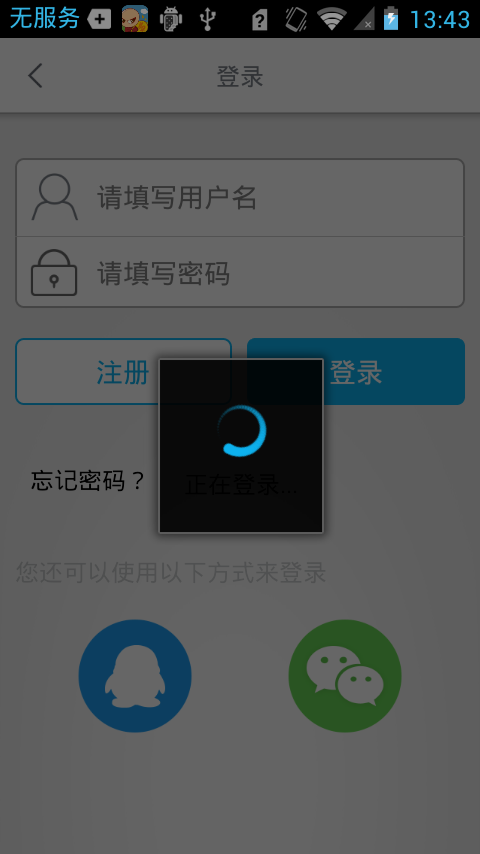imgbutton: (74, 611, 196, 740)
